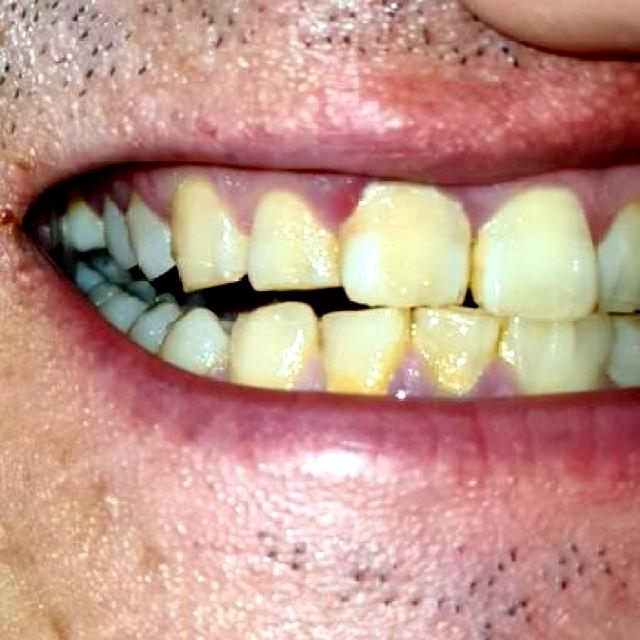Plaque: (327, 174, 379, 232), (77, 177, 131, 218), (436, 190, 484, 221)
